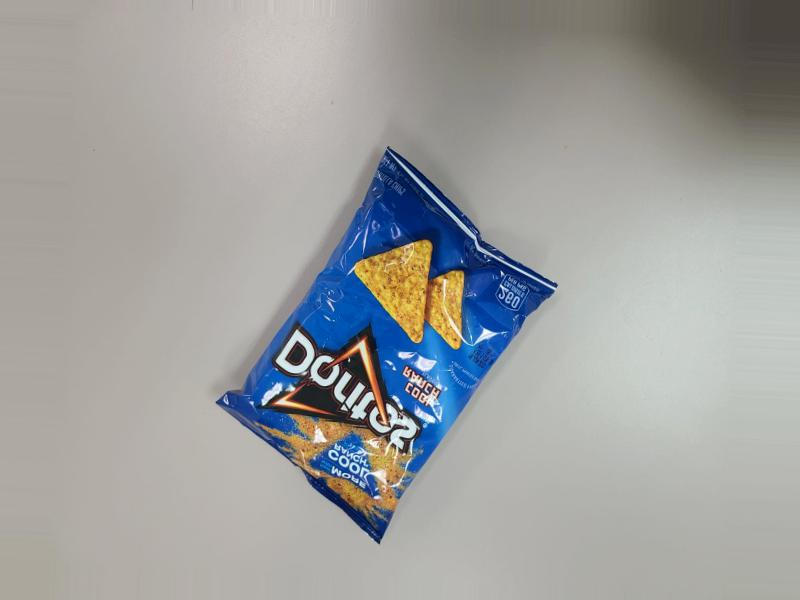doritos: (231, 125, 553, 547)
